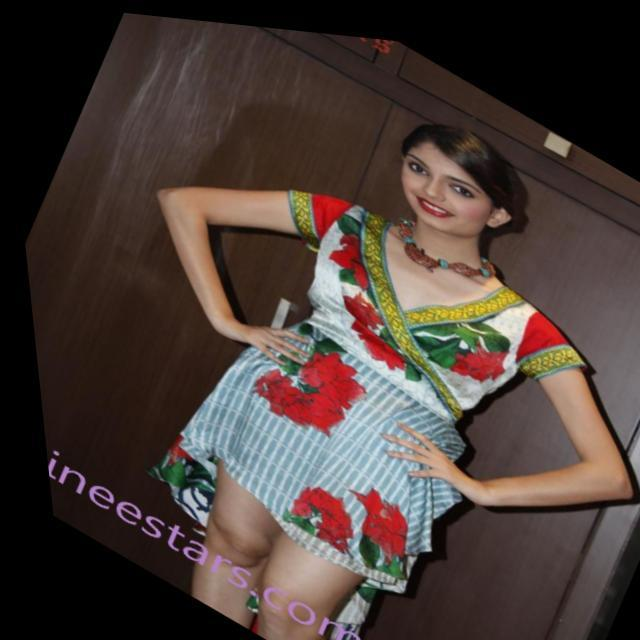Nonhelmet: (390, 119, 533, 243)
